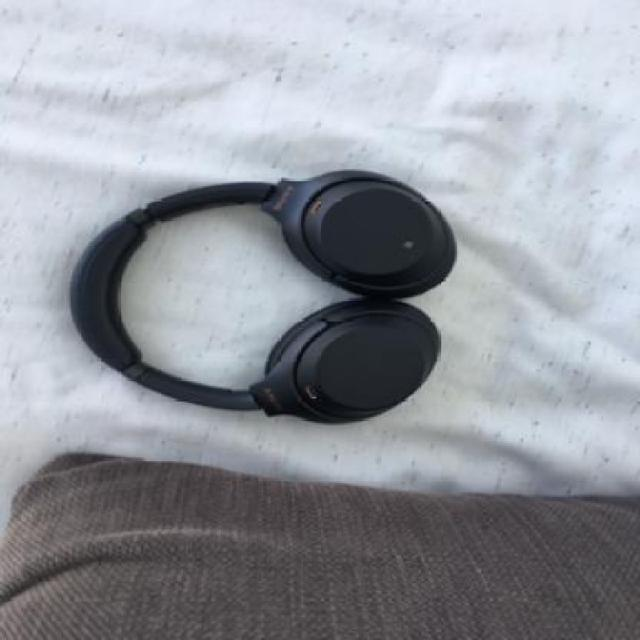earphone: (74, 82, 458, 433)
